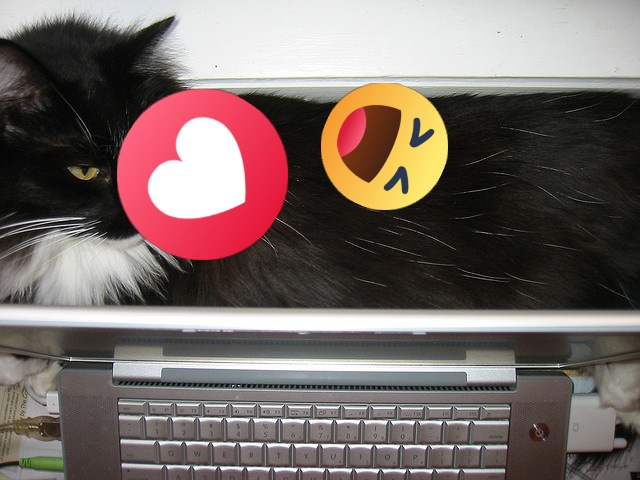haha: (321, 83, 448, 210)
love: (117, 89, 288, 260)
